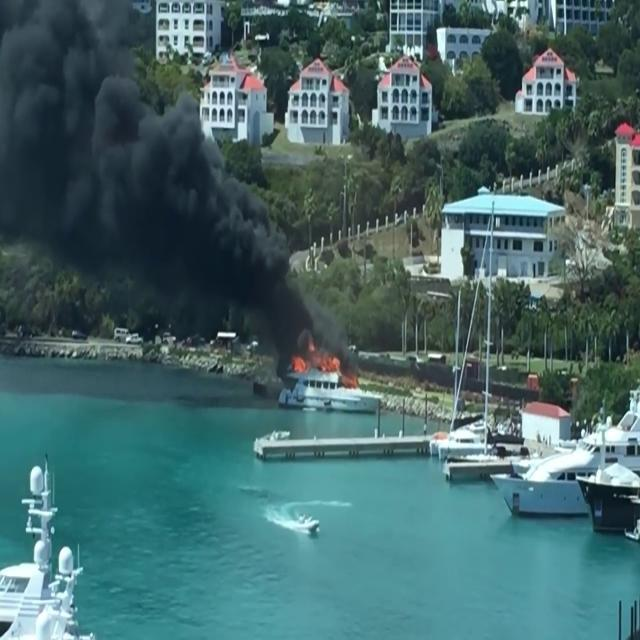Fire: (291, 341, 346, 383)
Smoke: (0, 1, 316, 343)
